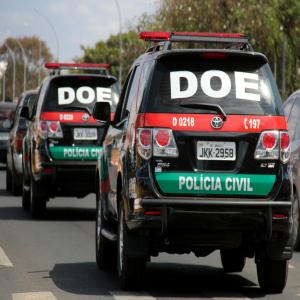Vehicle-registration-plate: (198, 142, 238, 162), (75, 128, 99, 141)
